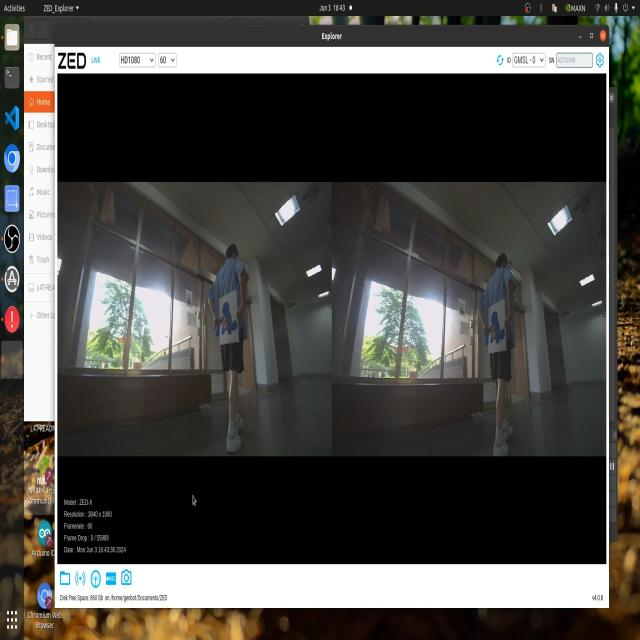blue: (215, 295, 236, 334), (488, 314, 504, 346)
